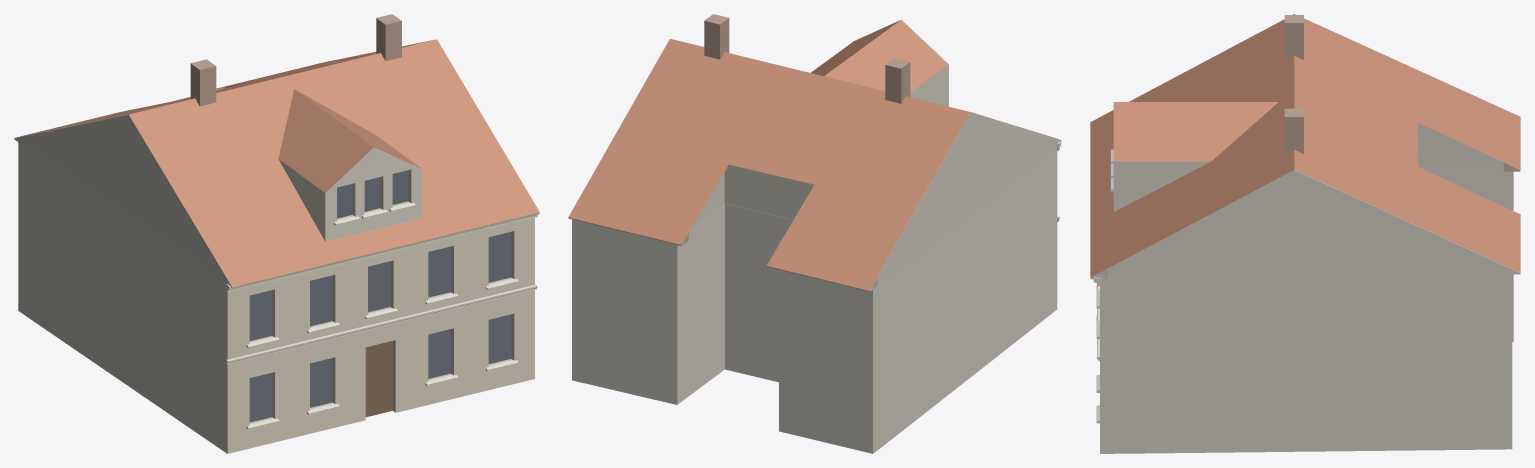
3 views of the same model, side by side, from view 1: azimuth 30°, elevation 25°; view 2: azimuth 150°, elevation 25°; view 3: azimuth 270°, elevation 25° (orthographic). The views are drawn at different scales.
Parts seen in each view (by area): view 1: CP_258_Masonry, CP_258_Roof, CP_258_Dormer_dormer1, CP_258_Gable_L_gable, CP_258_Cornice_string_0, CP_258_Chimney_0, CP_258_Chimney_1, CP_258_Cornice_eave_0, CP_258_Roof_EaveClosure_2; view 2: CP_258_Masonry, CP_258_Roof, CP_258_Gable_L_gable, CP_258_Dormer_dormer1, CP_258_AtticClosure, CP_258_Chimney_1, CP_258_Chimney_0; view 3: CP_258_Masonry, CP_258_Roof, CP_258_Gable_R_gable, CP_258_Dormer_dormer1, CP_258_AtticClosure, CP_258_Chimney_1, CP_258_Chimney_0.
Part boxes in pixels (bbox=[...]): CP_258_Masonry: bbox=[18, 142, 534, 453]; CP_258_Roof: bbox=[17, 39, 539, 287]; CP_258_Dormer_dormer1: bbox=[278, 89, 422, 241]; CP_258_Gable_L_gable: bbox=[14, 114, 238, 287]; CP_258_Cornice_string_0: bbox=[226, 284, 537, 364]; CP_258_Chimney_0: bbox=[190, 59, 216, 106]; CP_258_Chimney_1: bbox=[376, 14, 401, 60]; CP_258_Cornice_eave_0: bbox=[226, 214, 538, 292]; CP_258_Roof_EaveClosure_2: bbox=[231, 213, 539, 288]; CP_258_Masonry: bbox=[572, 144, 1057, 453]; CP_258_Roof: bbox=[568, 38, 1058, 290]; CP_258_Gable_L_gable: bbox=[863, 112, 1061, 291]; CP_258_Dormer_dormer1: bbox=[811, 19, 948, 106]; CP_258_AtticClosure: bbox=[692, 164, 813, 227]; CP_258_Chimney_1: bbox=[704, 14, 729, 59]; CP_258_Chimney_0: bbox=[885, 58, 910, 103]; CP_258_Masonry: bbox=[1100, 165, 1513, 453]; CP_258_Roof: bbox=[1090, 14, 1520, 277]; CP_258_Gable_R_gable: bbox=[1090, 170, 1520, 278]; CP_258_Dormer_dormer1: bbox=[1113, 102, 1278, 211]; CP_258_AtticClosure: bbox=[1417, 123, 1503, 165]; CP_258_Chimney_1: bbox=[1284, 108, 1303, 154]; CP_258_Chimney_0: bbox=[1284, 15, 1303, 60].
Bounding box in the file's own units: 13.75 × 12.5 × 15.5.
